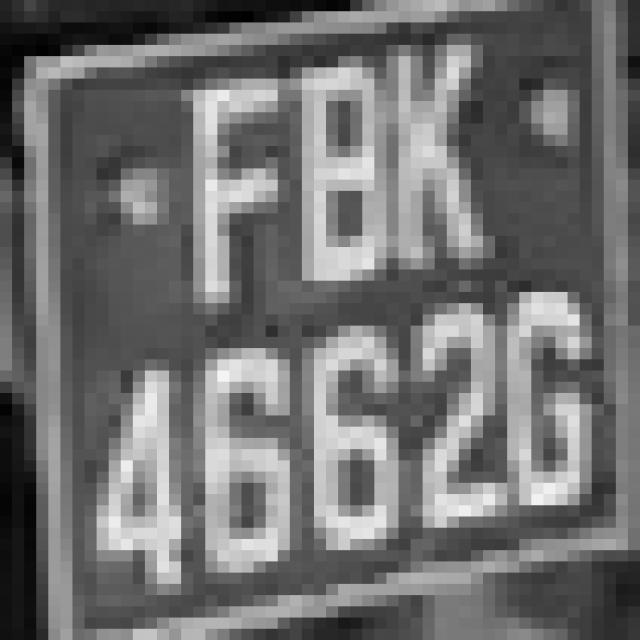2: (374, 270, 508, 528)
4: (48, 337, 205, 561)
6: (145, 303, 314, 573), (266, 314, 410, 595)
B: (242, 23, 398, 303)
F: (133, 34, 278, 314)
G: (459, 269, 604, 539)
K: (338, 0, 495, 292)
